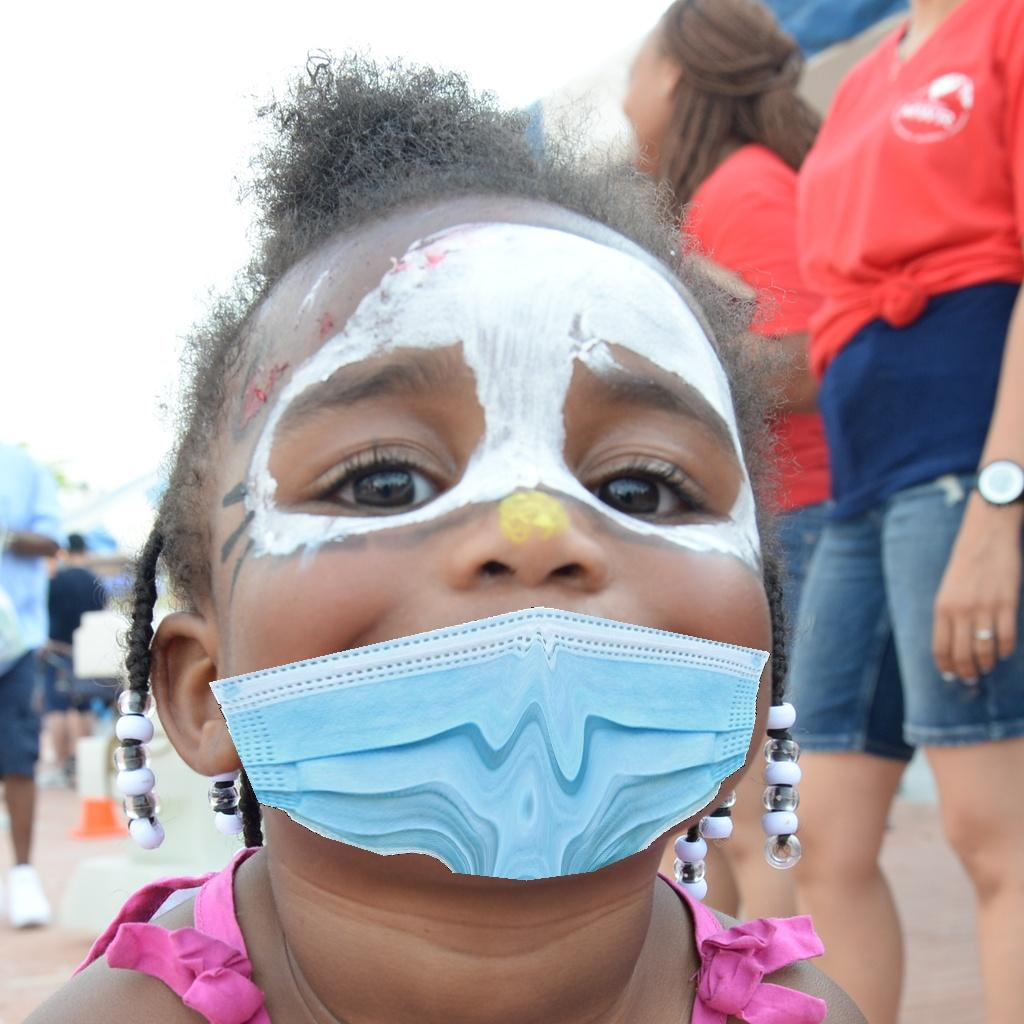Máscara Incorreta: (219, 235, 783, 883)
